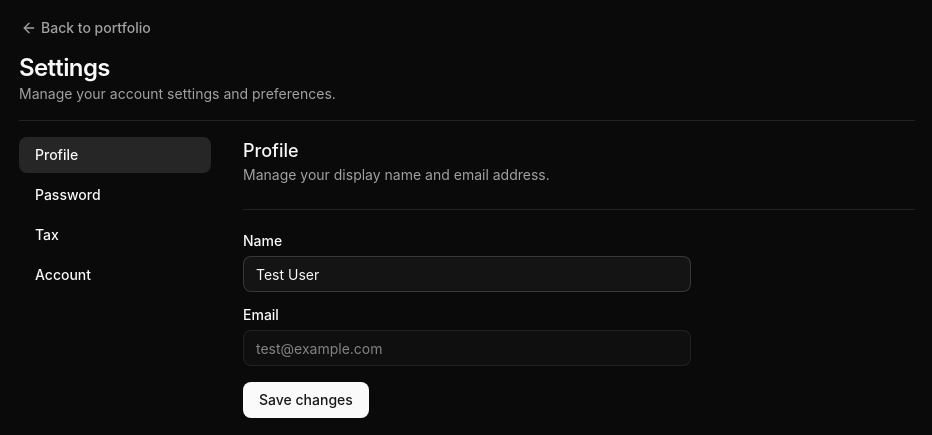
SettingsPage › switches to Password section when Password nav is clicked
The image size is (932, 435).
Click the button "Password". click: (115, 195)
box: [19,177,211,213]
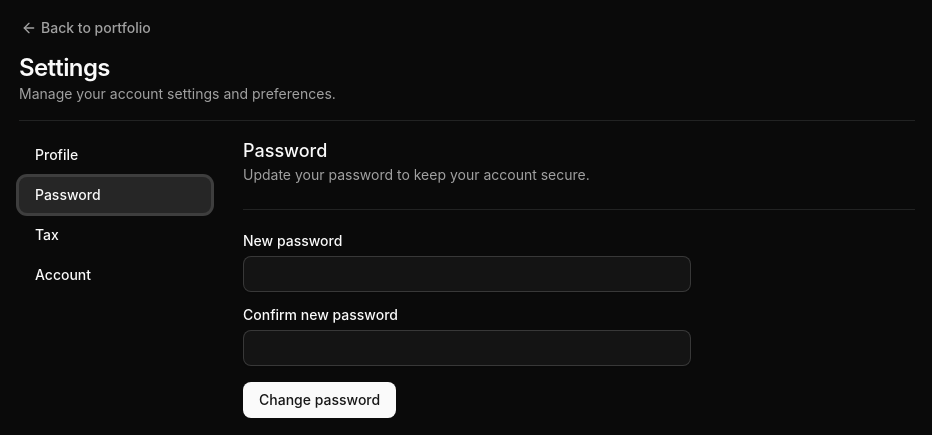
Check: the password field labelled "New password" is shown, box [243,256,691,292]
Check: the text labelled "name" is gone
